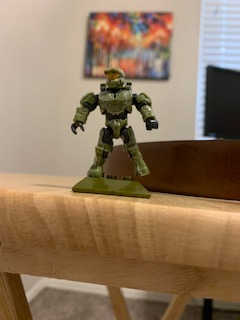chief: (68, 65, 160, 180)
spartan: (66, 63, 158, 178)
